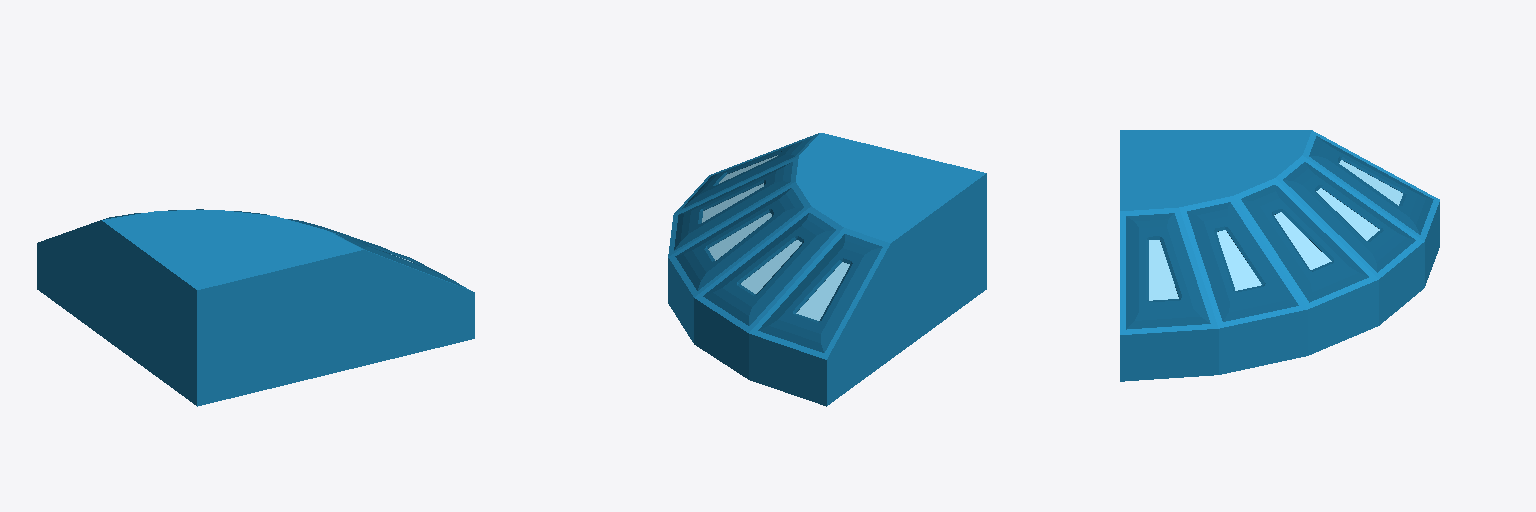
File: Spacestation_Structure_Fuselage_Curved_Outer_Large_Windowed.obj
3 renders of one model, left to right at view 1: azimuth 30°, elevation 25°; view 2: azimuth 150°, elevation 25°; view 3: azimuth 270°, elevation 25°, orthographic.
Visible parts, largest first — view 1: object10, object11; view 2: object10, object9, object8, object7, object5, object11, object3, object4, object2; view 3: object10, object11, object5, object7, object8, object9, object6, object1, object2, object4, object3.
Boxes of the visible parts, x1,y1,x2,y2 form: object10: [37, 210, 474, 406]; object11: [336, 234, 464, 287]; object10: [668, 133, 986, 406]; object9: [758, 234, 882, 352]; object8: [703, 213, 835, 325]; object7: [675, 188, 803, 290]; object5: [674, 162, 792, 250]; object11: [682, 137, 812, 208]; object3: [796, 262, 849, 320]; object4: [741, 240, 801, 293]; object2: [708, 213, 771, 260]; object10: [1120, 130, 1439, 381]; object11: [1126, 213, 1210, 329]; object5: [1187, 202, 1298, 321]; object7: [1241, 185, 1368, 302]; object8: [1283, 162, 1415, 272]; object9: [1309, 136, 1433, 234]; object6: [1149, 240, 1178, 300]; object1: [1217, 230, 1261, 290]; object2: [1274, 212, 1331, 269]; object4: [1316, 188, 1379, 240]; object3: [1339, 160, 1402, 205].
Size of the model in its own units: 2.5 by 1 by 2.5.